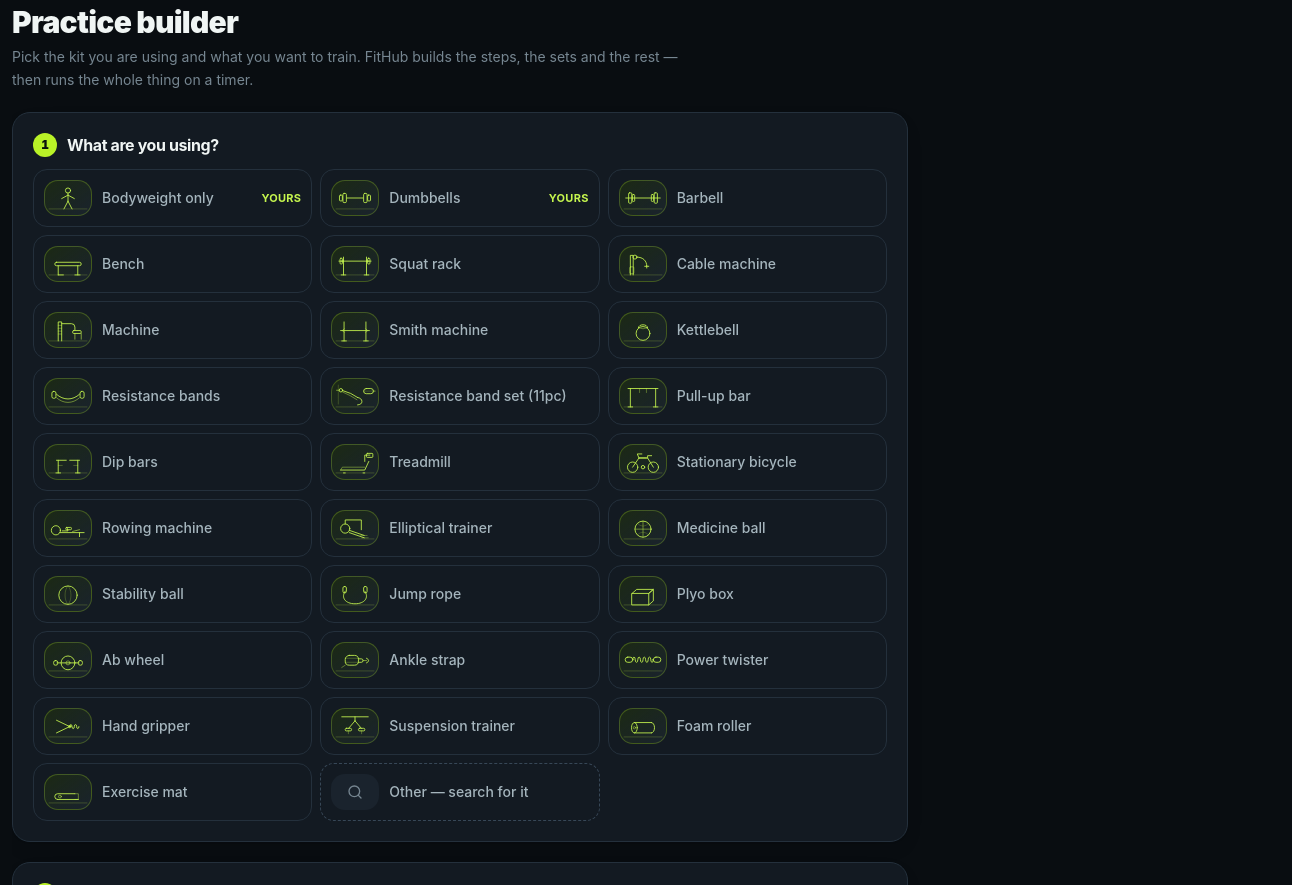
practice builder page › builds steps for the chosen kit and target
What coordinates should you click on to do the following:
click the radio button labelled "Dumbbells Yours"
I would click on:
 (460, 198)
Its box is left=320, top=168, right=600, bottom=226.
(page scrolled)
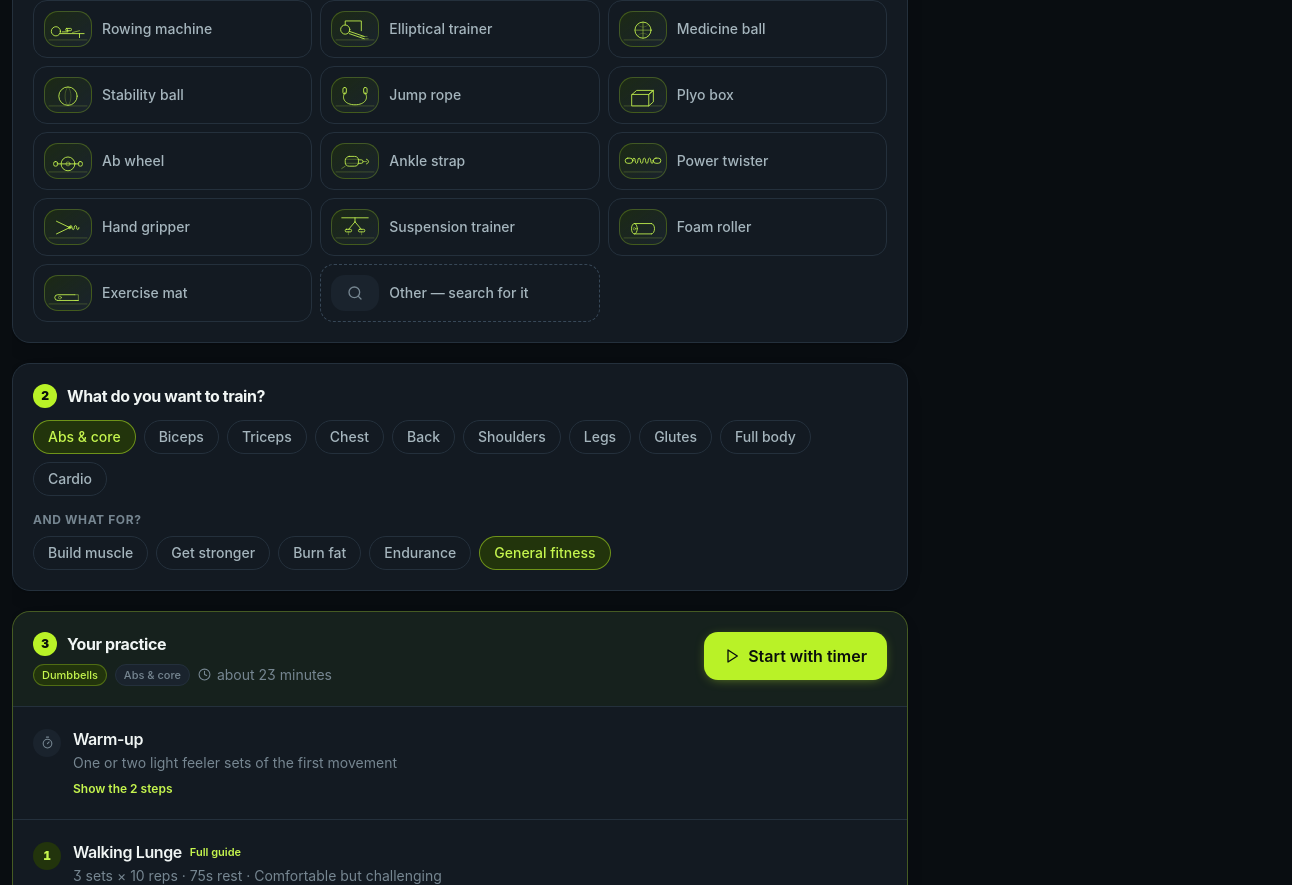
What coordinates should you click on to do the following:
click the radio button labelled "Biceps"
I would click on:
 (181, 436)
Its box is left=144, top=420, right=219, bottom=454.
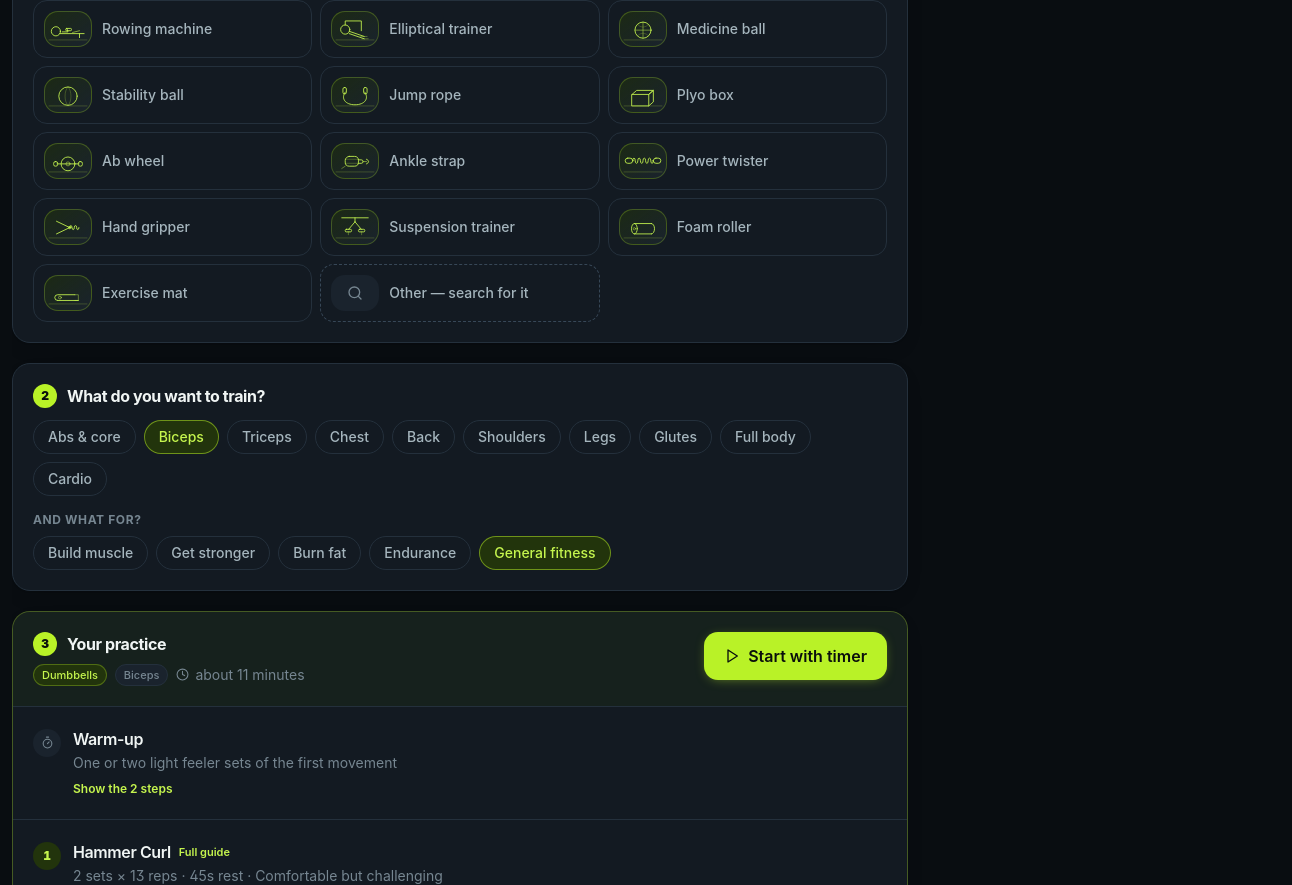
Check: the heading "3 Your practice" is shown, box left=33, top=632, right=166, bottom=656
Check: the text "Warm-up" is shown, box left=73, top=726, right=143, bottom=750
Check: the text "Curl" is shown, box left=73, top=842, right=171, bottom=862
